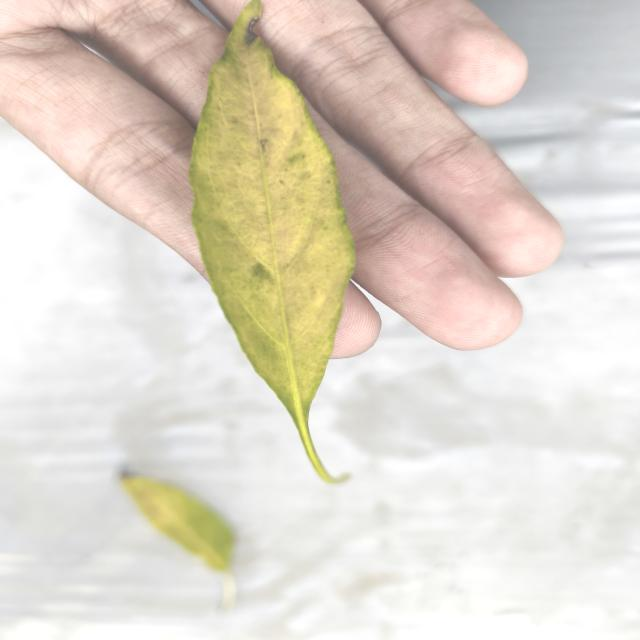Virus Kuning: (187, 1, 357, 426), (118, 468, 238, 614)
